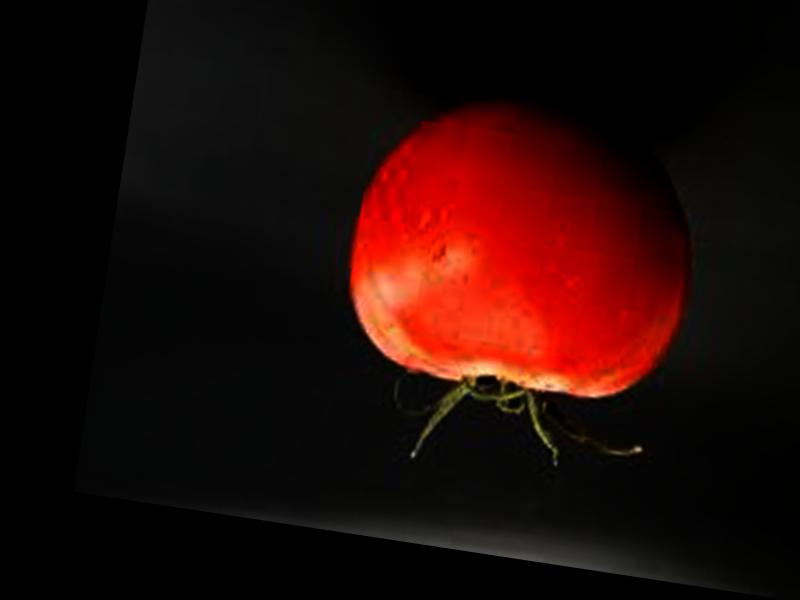Tomato: (331, 79, 710, 412)
